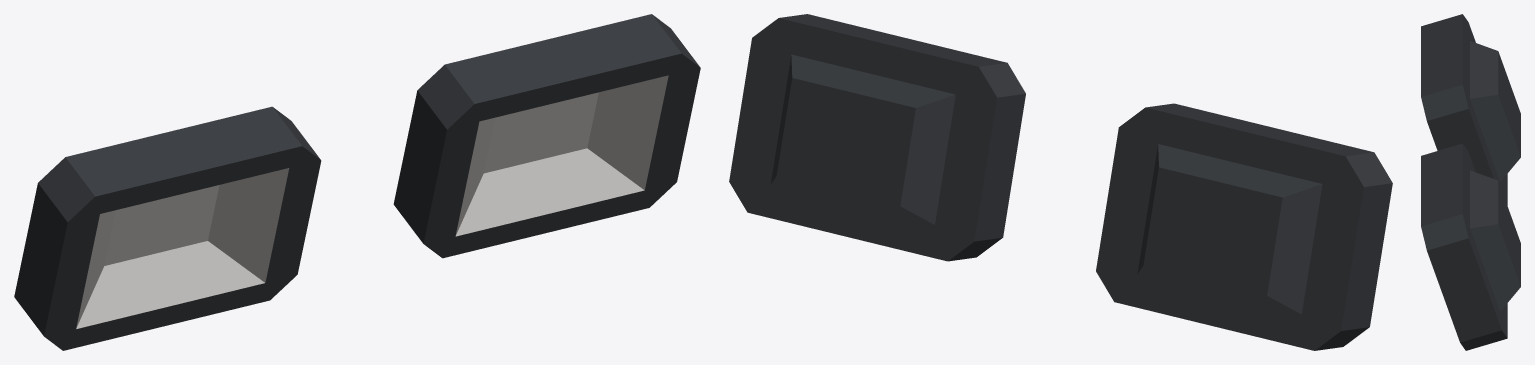
The model's file is SM_Prop_Light_Portable_Lights_01.fbx.
3 renders of one model, left to right at view 1: azimuth 30°, elevation 25°; view 2: azimuth 150°, elevation 25°; view 3: azimuth 270°, elevation 25°, orthographic. The views are drawn at different scales.
Parts seen in each view (by area): view 1: SM_Prop_Light_Portable_Lights_01; view 2: SM_Prop_Light_Portable_Lights_01; view 3: SM_Prop_Light_Portable_Lights_01.
Part boxes in pixels (x1,y1,x2,y2): SM_Prop_Light_Portable_Lights_01: (14,14,700,350); SM_Prop_Light_Portable_Lights_01: (729,14,1392,350); SM_Prop_Light_Portable_Lights_01: (1421,14,1520,350).
Size of the model in its own units: 59.75 by 17.64 by 11.69.
